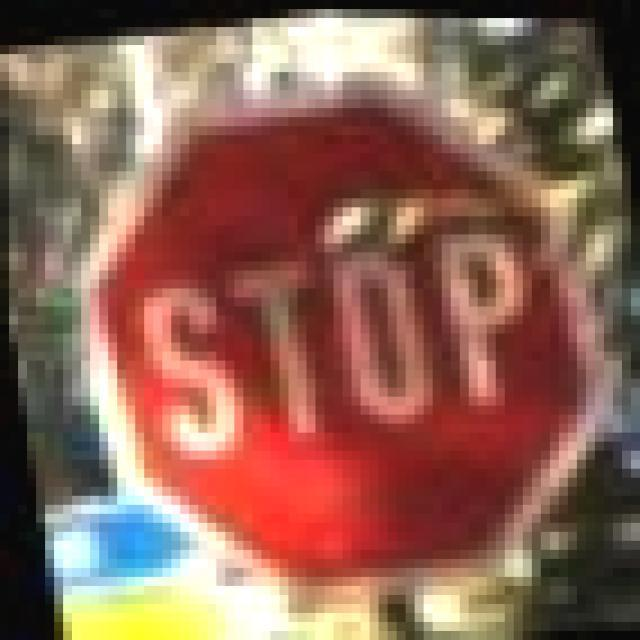stop_sign: (31, 36, 626, 640)
